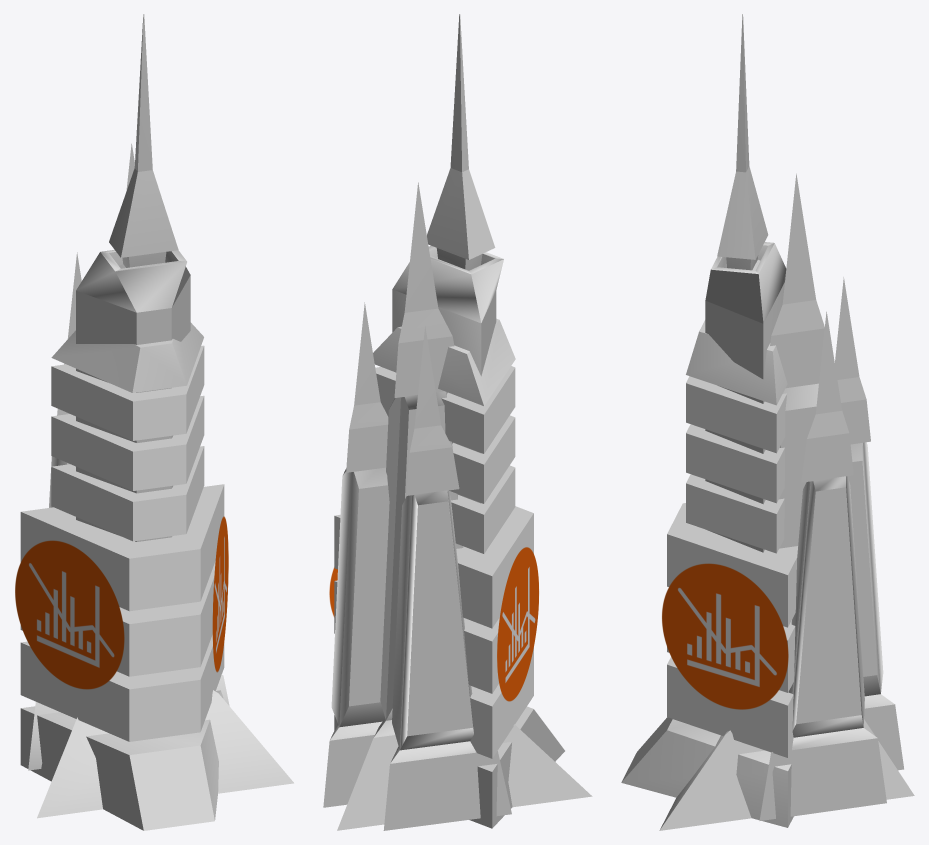
Rendered from forth building.glb.
The picture shows the model from 3 angles, left to right: view 1: azimuth 30°, elevation 25°; view 2: azimuth 150°, elevation 25°; view 3: azimuth 270°, elevation 25°; orthographic projection.
Parts seen in each view (by area): view 1: Downtown Center City.495, data-analytic-icon-6, data-analytic-icon-6.001; view 2: Downtown Center City.495, data-analytic-icon-6; view 3: Downtown Center City.495, data-analytic-icon-6.001.
Boxes of the visible parts, x1,y1,x2,y2 form: Downtown Center City.495: (20,14,293,830); data-analytic-icon-6: (15,540,124,689); data-analytic-icon-6.001: (212,516,228,672); Downtown Center City.495: (323,14,592,830); data-analytic-icon-6: (497,547,538,701); Downtown Center City.495: (621,14,914,830); data-analytic-icon-6.001: (662,563,788,709).
Size of the model in its own units: 3.39 by 10.8 by 3.76.
4 materials, 2 textured.
